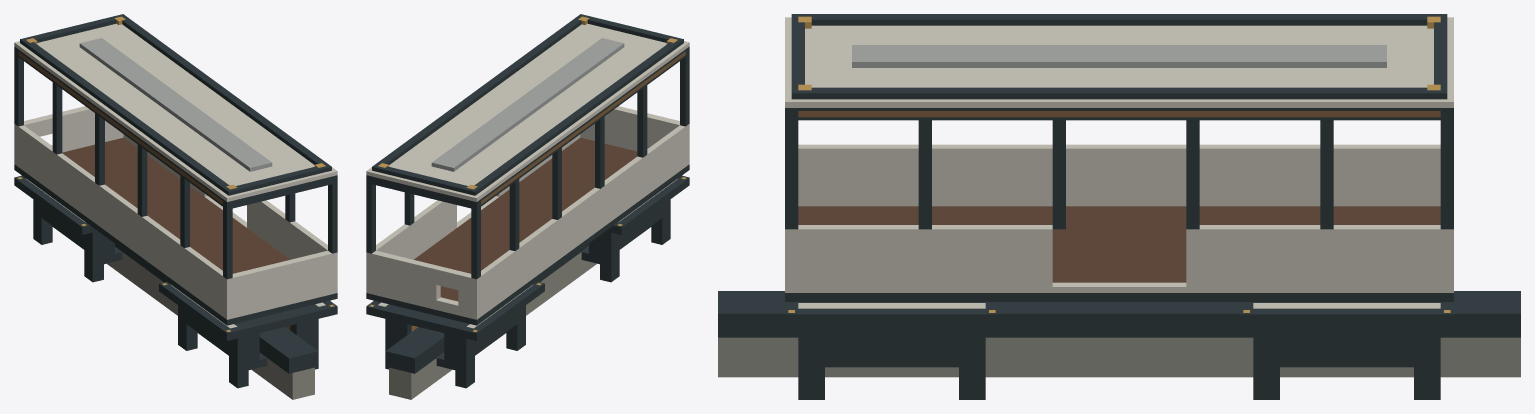
3 views of the same model, side by side, from view 1: azimuth 30°, elevation 25°; view 2: azimuth 150°, elevation 25°; view 3: azimuth 270°, elevation 25° (orthographic). The views are drawn at different scales.
Parts seen in each view (by area): view 1: 既有公共载具体壳盒, 轻轨轮架和磁浮导向底座组件 (×2), 明确0.8m导梁、检修止挡，非磁悬浮模拟（辅助）; view 2: 既有公共载具体壳盒, 轻轨轮架和磁浮导向底座组件 (×2), 明确0.8m导梁、检修止挡，非磁悬浮模拟（辅助）; view 3: 既有公共载具体壳盒, 明确0.8m导梁、检修止挡，非磁悬浮模拟（辅助）, 轻轨轮架和磁浮导向底座组件 (×2).
Boxes of the visible parts, box(x1,y1,x2,y2) form: 既有公共载具体壳盒: box(14, 14, 337, 325); 轻轨轮架和磁浮导向底座组件 (×2): box(14, 175, 337, 369); 明确0.8m导梁、检修止挡，非磁悬浮模拟（辅助）: box(33, 212, 318, 399); 既有公共载具体壳盒: box(366, 14, 689, 325); 轻轨轮架和磁浮导向底座组件 (×2): box(366, 175, 689, 369); 明确0.8m导梁、检修止挡，非磁悬浮模拟（辅助）: box(385, 212, 670, 399); 既有公共载具体壳盒: box(785, 14, 1453, 301); 明确0.8m导梁、检修止挡，非磁悬浮模拟（辅助）: box(718, 291, 1520, 399); 轻轨轮架和磁浮导向底座组件 (×2): box(785, 302, 1453, 367).
Bounding box in the file's own units: 3 × 5.2 × 12.
9 materials, 9 textured.
